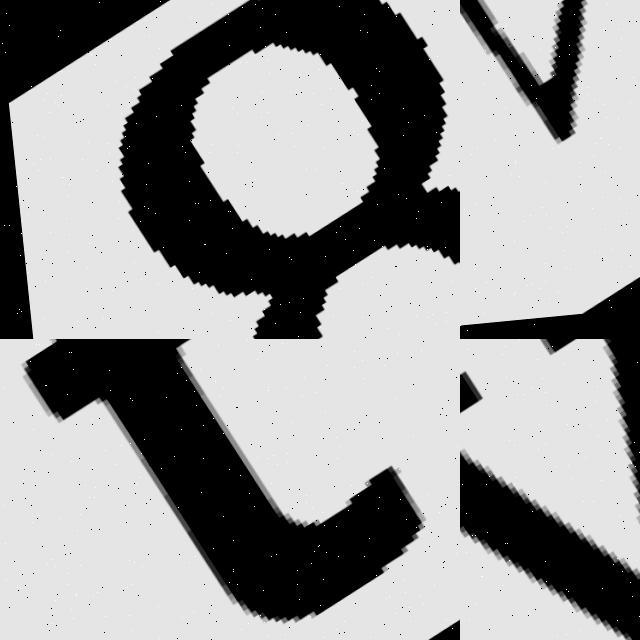8: (33, 0, 460, 339)
T: (0, 339, 442, 640)
W: (460, 0, 640, 314)
Y: (460, 339, 640, 640)
